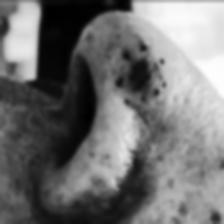Potentially Malignant Skin Tumors: (130, 56, 156, 90)
